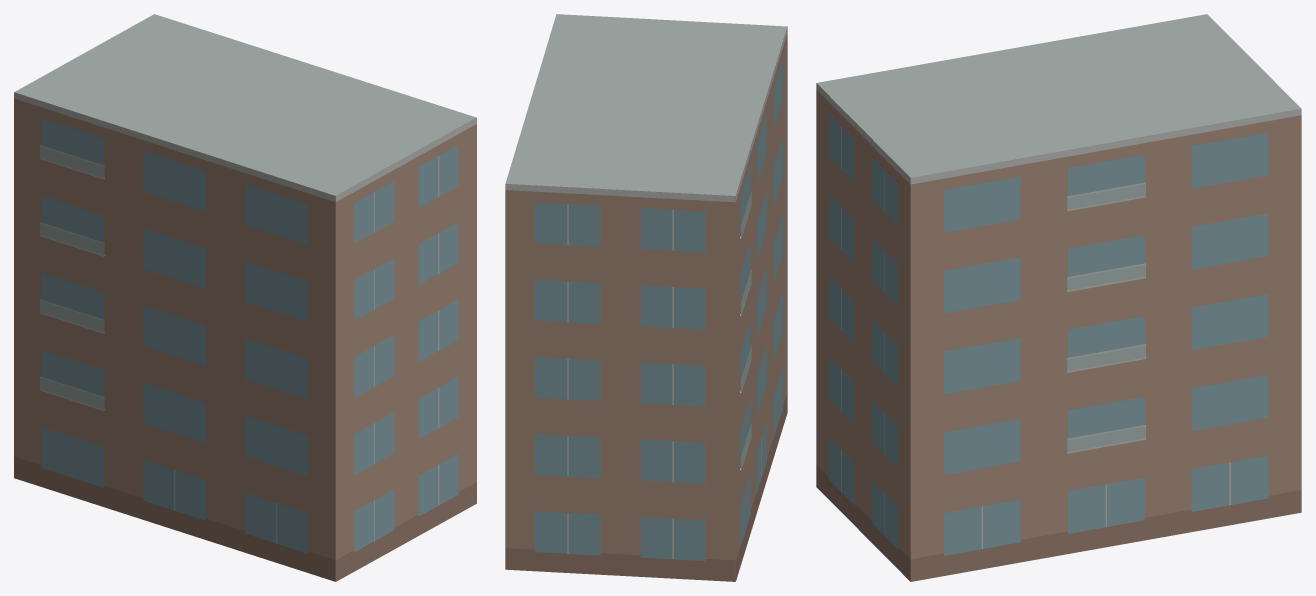
File: survey-upis-32697535.glb
3 views of the same model, side by side, from view 1: azimuth 30°, elevation 25°; view 2: azimuth 150°, elevation 25°; view 3: azimuth 270°, elevation 25° (orthographic). The views are drawn at different scales.
Visible parts, largest first — view 1: survey-upis-32697535.tmp; view 2: survey-upis-32697535.tmp; view 3: survey-upis-32697535.tmp.
Boxes of the visible parts, left/top/right/bottom form: survey-upis-32697535.tmp: left=14, top=14, right=476, bottom=581; survey-upis-32697535.tmp: left=505, top=14, right=787, bottom=581; survey-upis-32697535.tmp: left=816, top=14, right=1301, bottom=581.
Size of the model in its own units: 13.07 by 15 by 16.34.
